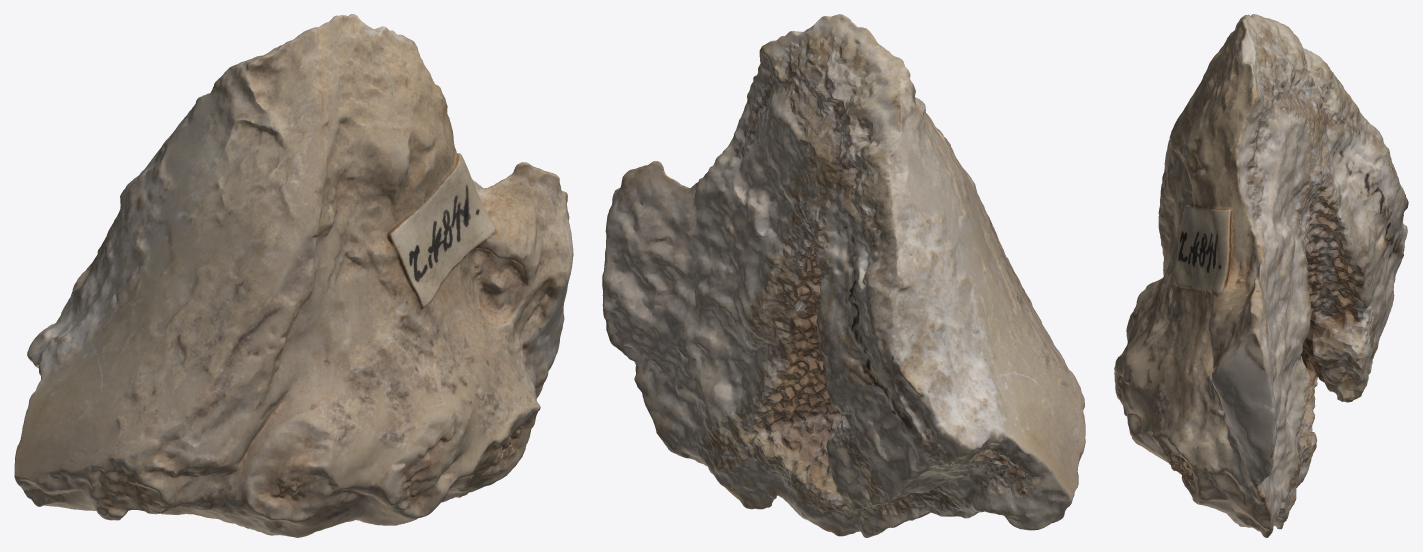
The model's file is EWS0016445.glb.
3 views of the same model, side by side, from view 1: azimuth 30°, elevation 25°; view 2: azimuth 150°, elevation 25°; view 3: azimuth 270°, elevation 25° (orthographic). The views are drawn at different scales.
Visible parts, largest first — view 1: input; view 2: input; view 3: input.
Part boxes in pixels (box(x1,y1,x2,y2)): input: box(14, 14, 573, 537); input: box(602, 14, 1085, 537); input: box(1114, 14, 1408, 537).
Bounding box in the file's own units: 0.0477 × 0.0461 × 0.0259.
Materials: 1 (1 with a texture image).
